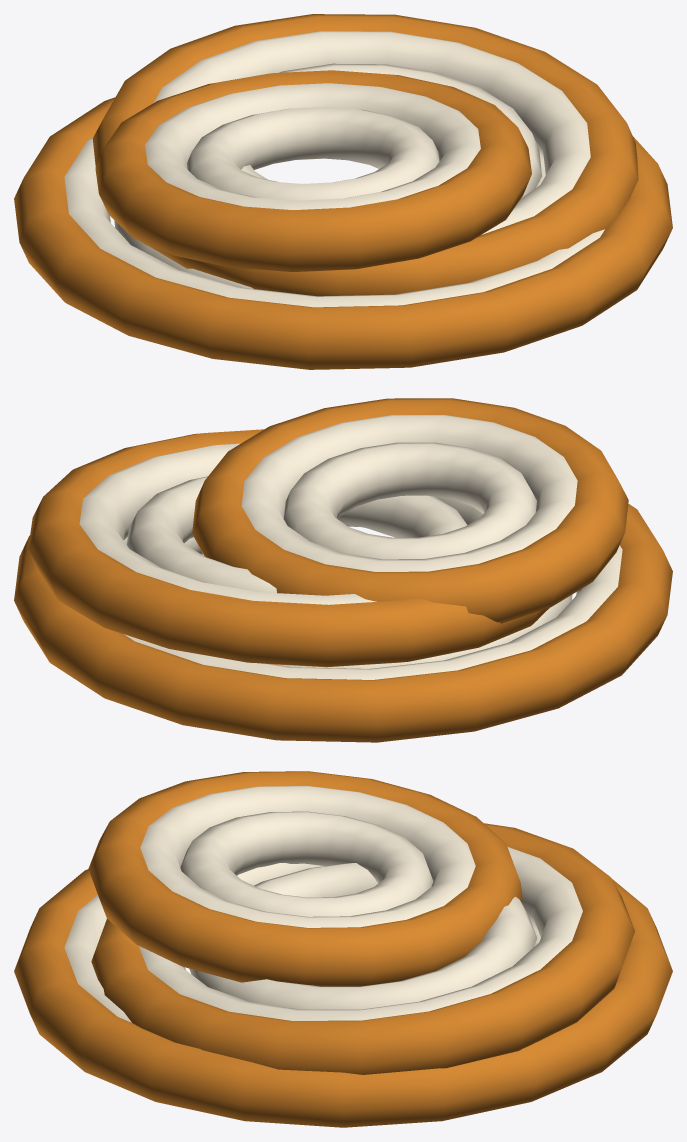
The model's file is food_ingredient_onion_chopped.gltf.
The picture shows the model from 3 angles, top to bottom: view 1: azimuth 30°, elevation 25°; view 2: azimuth 150°, elevation 25°; view 3: azimuth 270°, elevation 25°; orthographic projection.
Parts seen in each view (by area): view 1: OnionOuterGold_0; view 2: OnionOuterGold_0; view 3: OnionOuterGold_0.
Boxes of the visible parts, left/top/right/bottom form: OnionOuterGold_0: left=14, top=14, right=672, bottom=369; OnionOuterGold_0: left=14, top=398, right=672, bottom=742; OnionOuterGold_0: left=14, top=771, right=672, bottom=1127.
Size of the model in its own units: 0.356 by 0.082 by 0.356.
